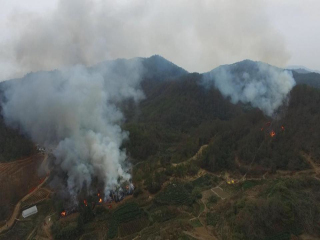smoke: (5, 8, 141, 203), (202, 5, 298, 120)
